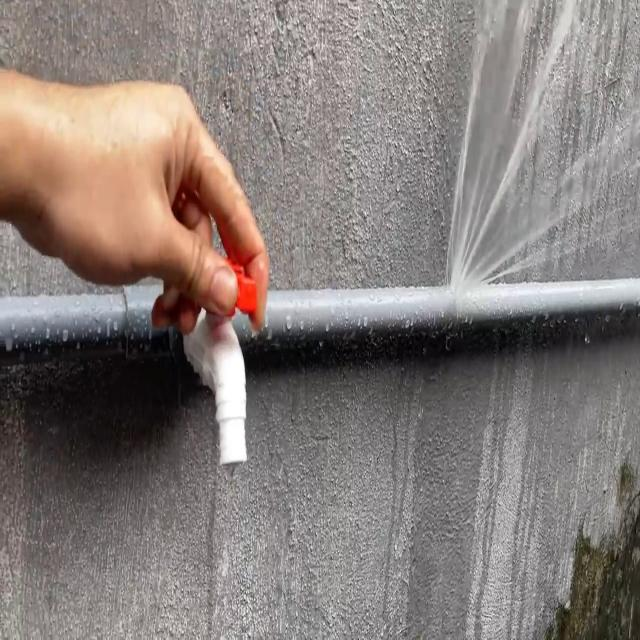leak: (442, 0, 640, 292)
